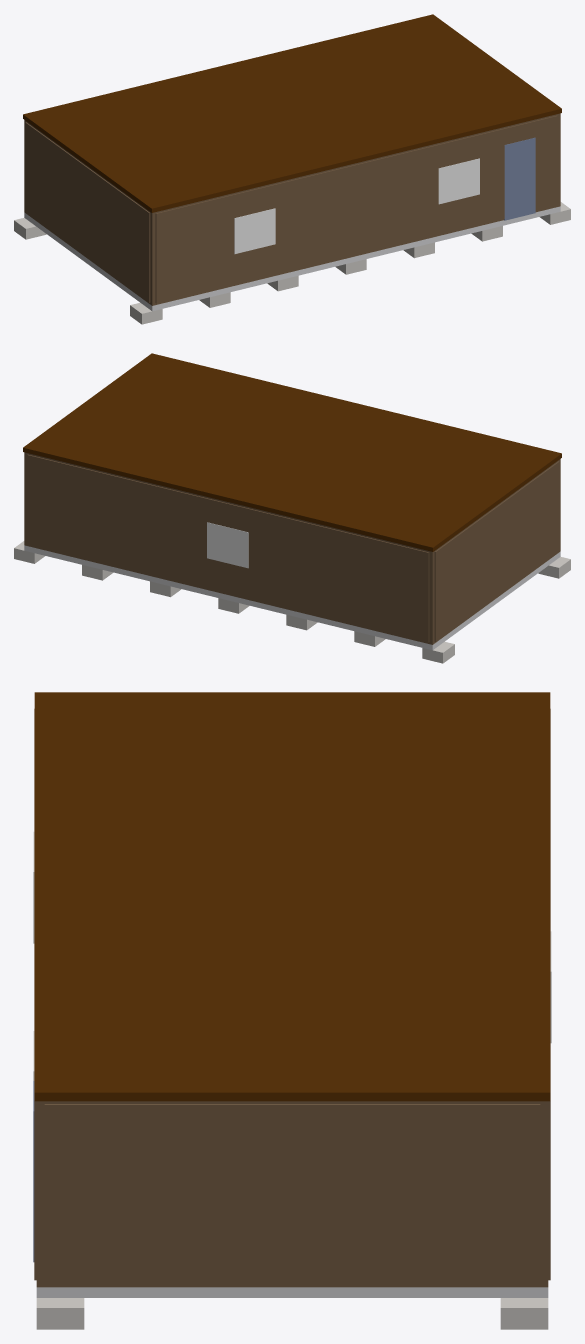
The model's file is Studio-40-Base-WengeWood-LOD0.glb.
The picture shows the model from 3 angles, top to bottom: view 1: azimuth 30°, elevation 25°; view 2: azimuth 150°, elevation 25°; view 3: azimuth 270°, elevation 25°; orthographic projection. The views are drawn at different scales.
Visible parts, largest first — view 1: RoofMain, ExteriorPanelsStandard, BaseFrame, WindowsStandard, ExteriorShell, FoundationBlocks, EntryDoor; view 2: RoofMain, ExteriorPanelsStandard, BaseFrame, ExteriorShell, FoundationBlocks, WindowsStandard; view 3: RoofMain, ExteriorPanelsStandard, ExteriorShell, BaseFrame, FoundationBlocks.
Part boxes in pixels (bbox=[...]): RoofMain: bbox=[23, 14, 561, 212]; ExteriorPanelsStandard: bbox=[25, 115, 557, 303]; BaseFrame: bbox=[24, 206, 560, 311]; WindowsStandard: bbox=[234, 158, 479, 254]; ExteriorShell: bbox=[24, 113, 560, 305]; FoundationBlocks: bbox=[14, 202, 570, 324]; EntryDoor: bbox=[504, 137, 535, 220]; RoofMain: bbox=[23, 353, 561, 551]; ExteriorPanelsStandard: bbox=[27, 454, 559, 642]; BaseFrame: bbox=[24, 545, 560, 650]; ExteriorShell: bbox=[24, 452, 560, 644]; FoundationBlocks: bbox=[14, 541, 570, 663]; WindowsStandard: bbox=[207, 522, 248, 568]; RoofMain: bbox=[34, 692, 550, 1101]; ExteriorPanelsStandard: bbox=[34, 709, 550, 1284]; ExteriorShell: bbox=[36, 1101, 548, 1287]; BaseFrame: bbox=[36, 1287, 548, 1297]; FoundationBlocks: bbox=[36, 1298, 548, 1329].
Bounding box in the file's own units: 12.49 × 3.17 × 6.53.
